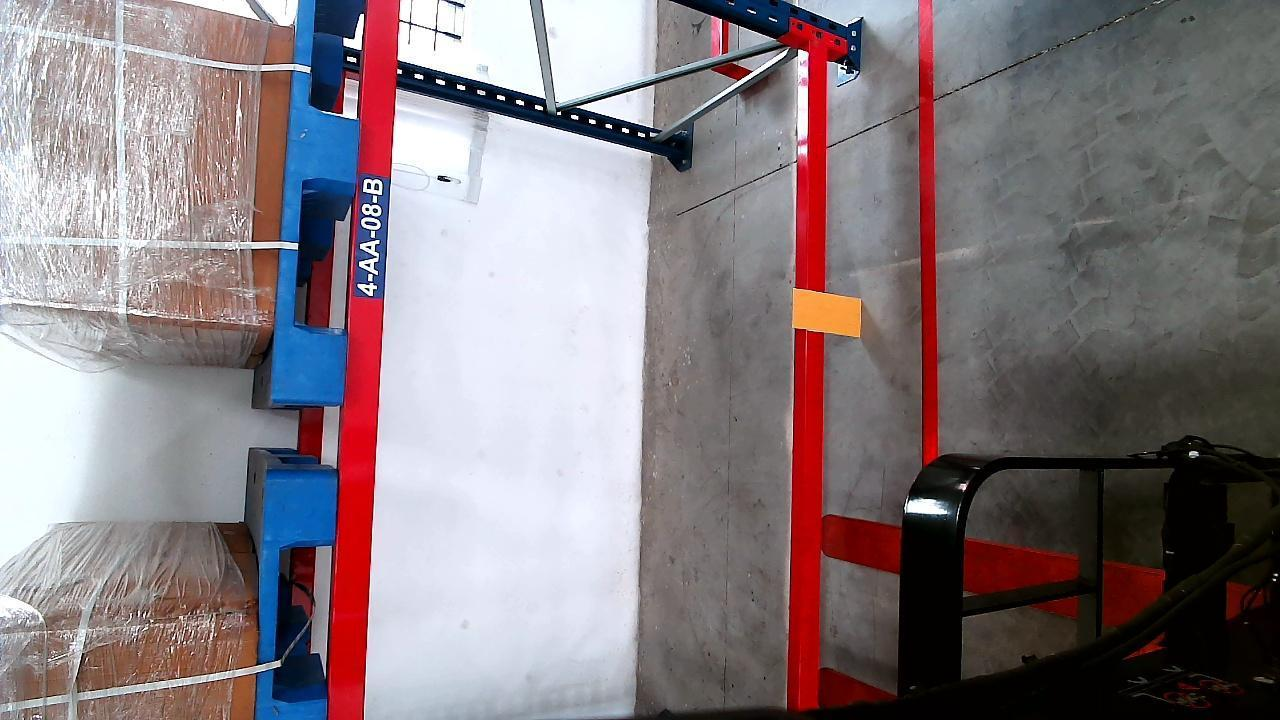h_rack: (326, 0, 398, 720), (789, 33, 832, 705)
orange_strip: (795, 288, 865, 335)
red_line: (913, 10, 942, 459)
small_pallet: (267, 0, 364, 413), (257, 472, 338, 720)
